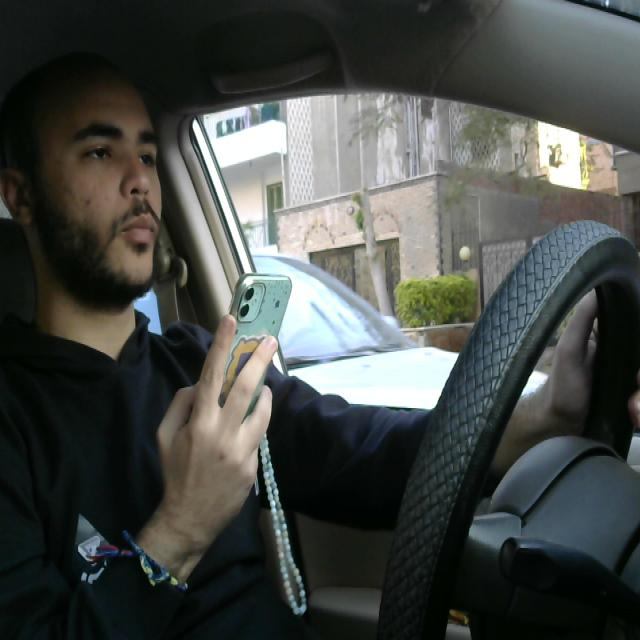mobile use: (204, 272, 300, 467)
